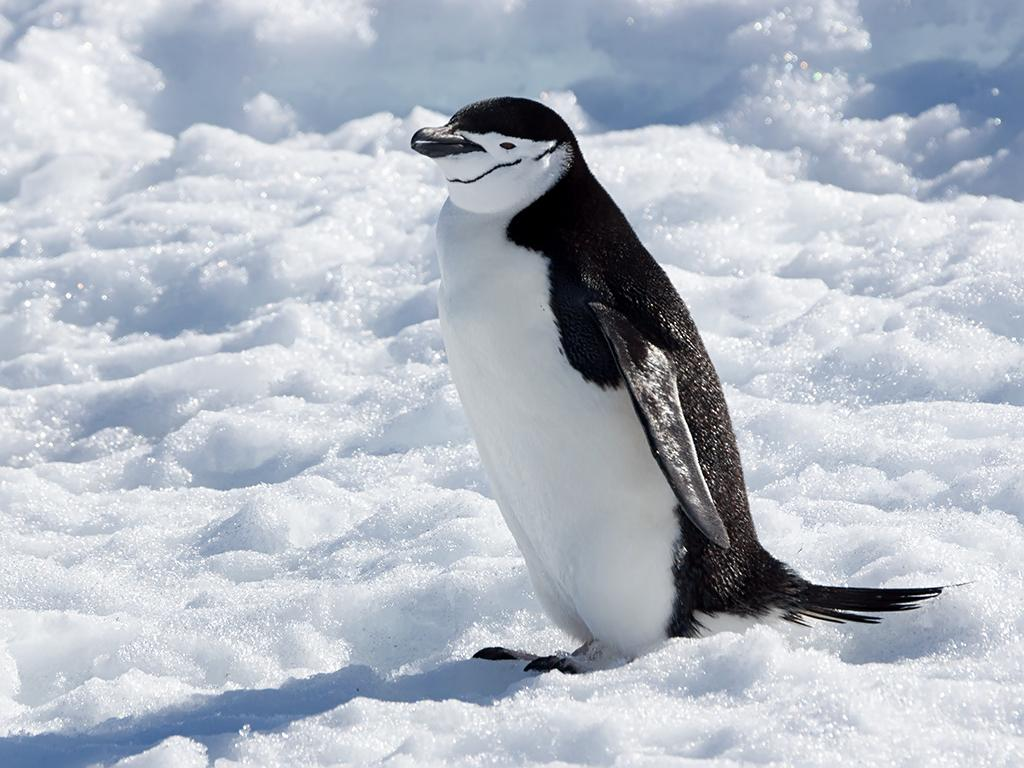chinstrap: (296, 69, 922, 707)
